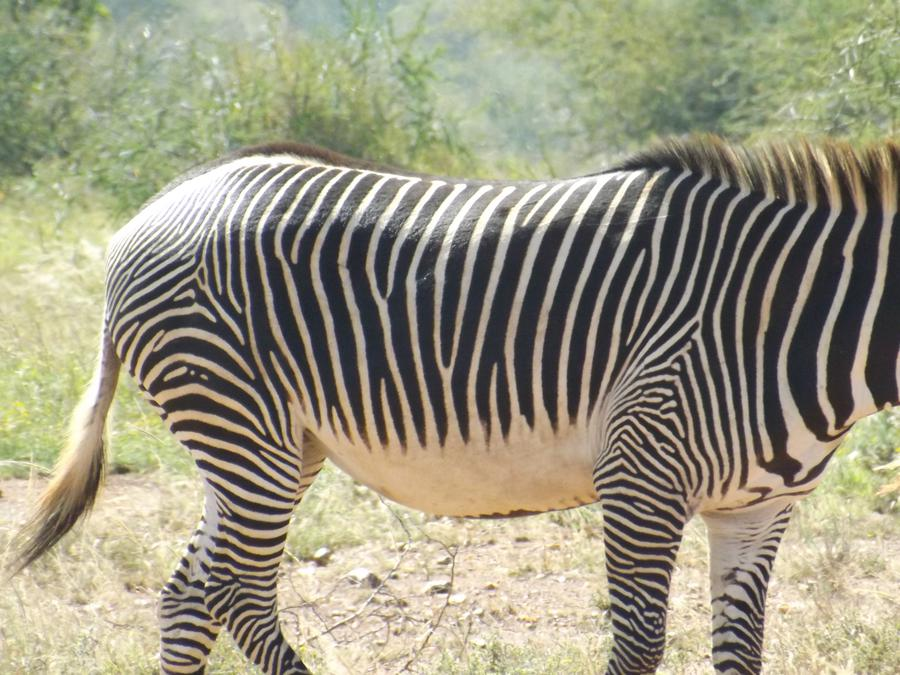zebra_grevys: (85, 128, 739, 505)
